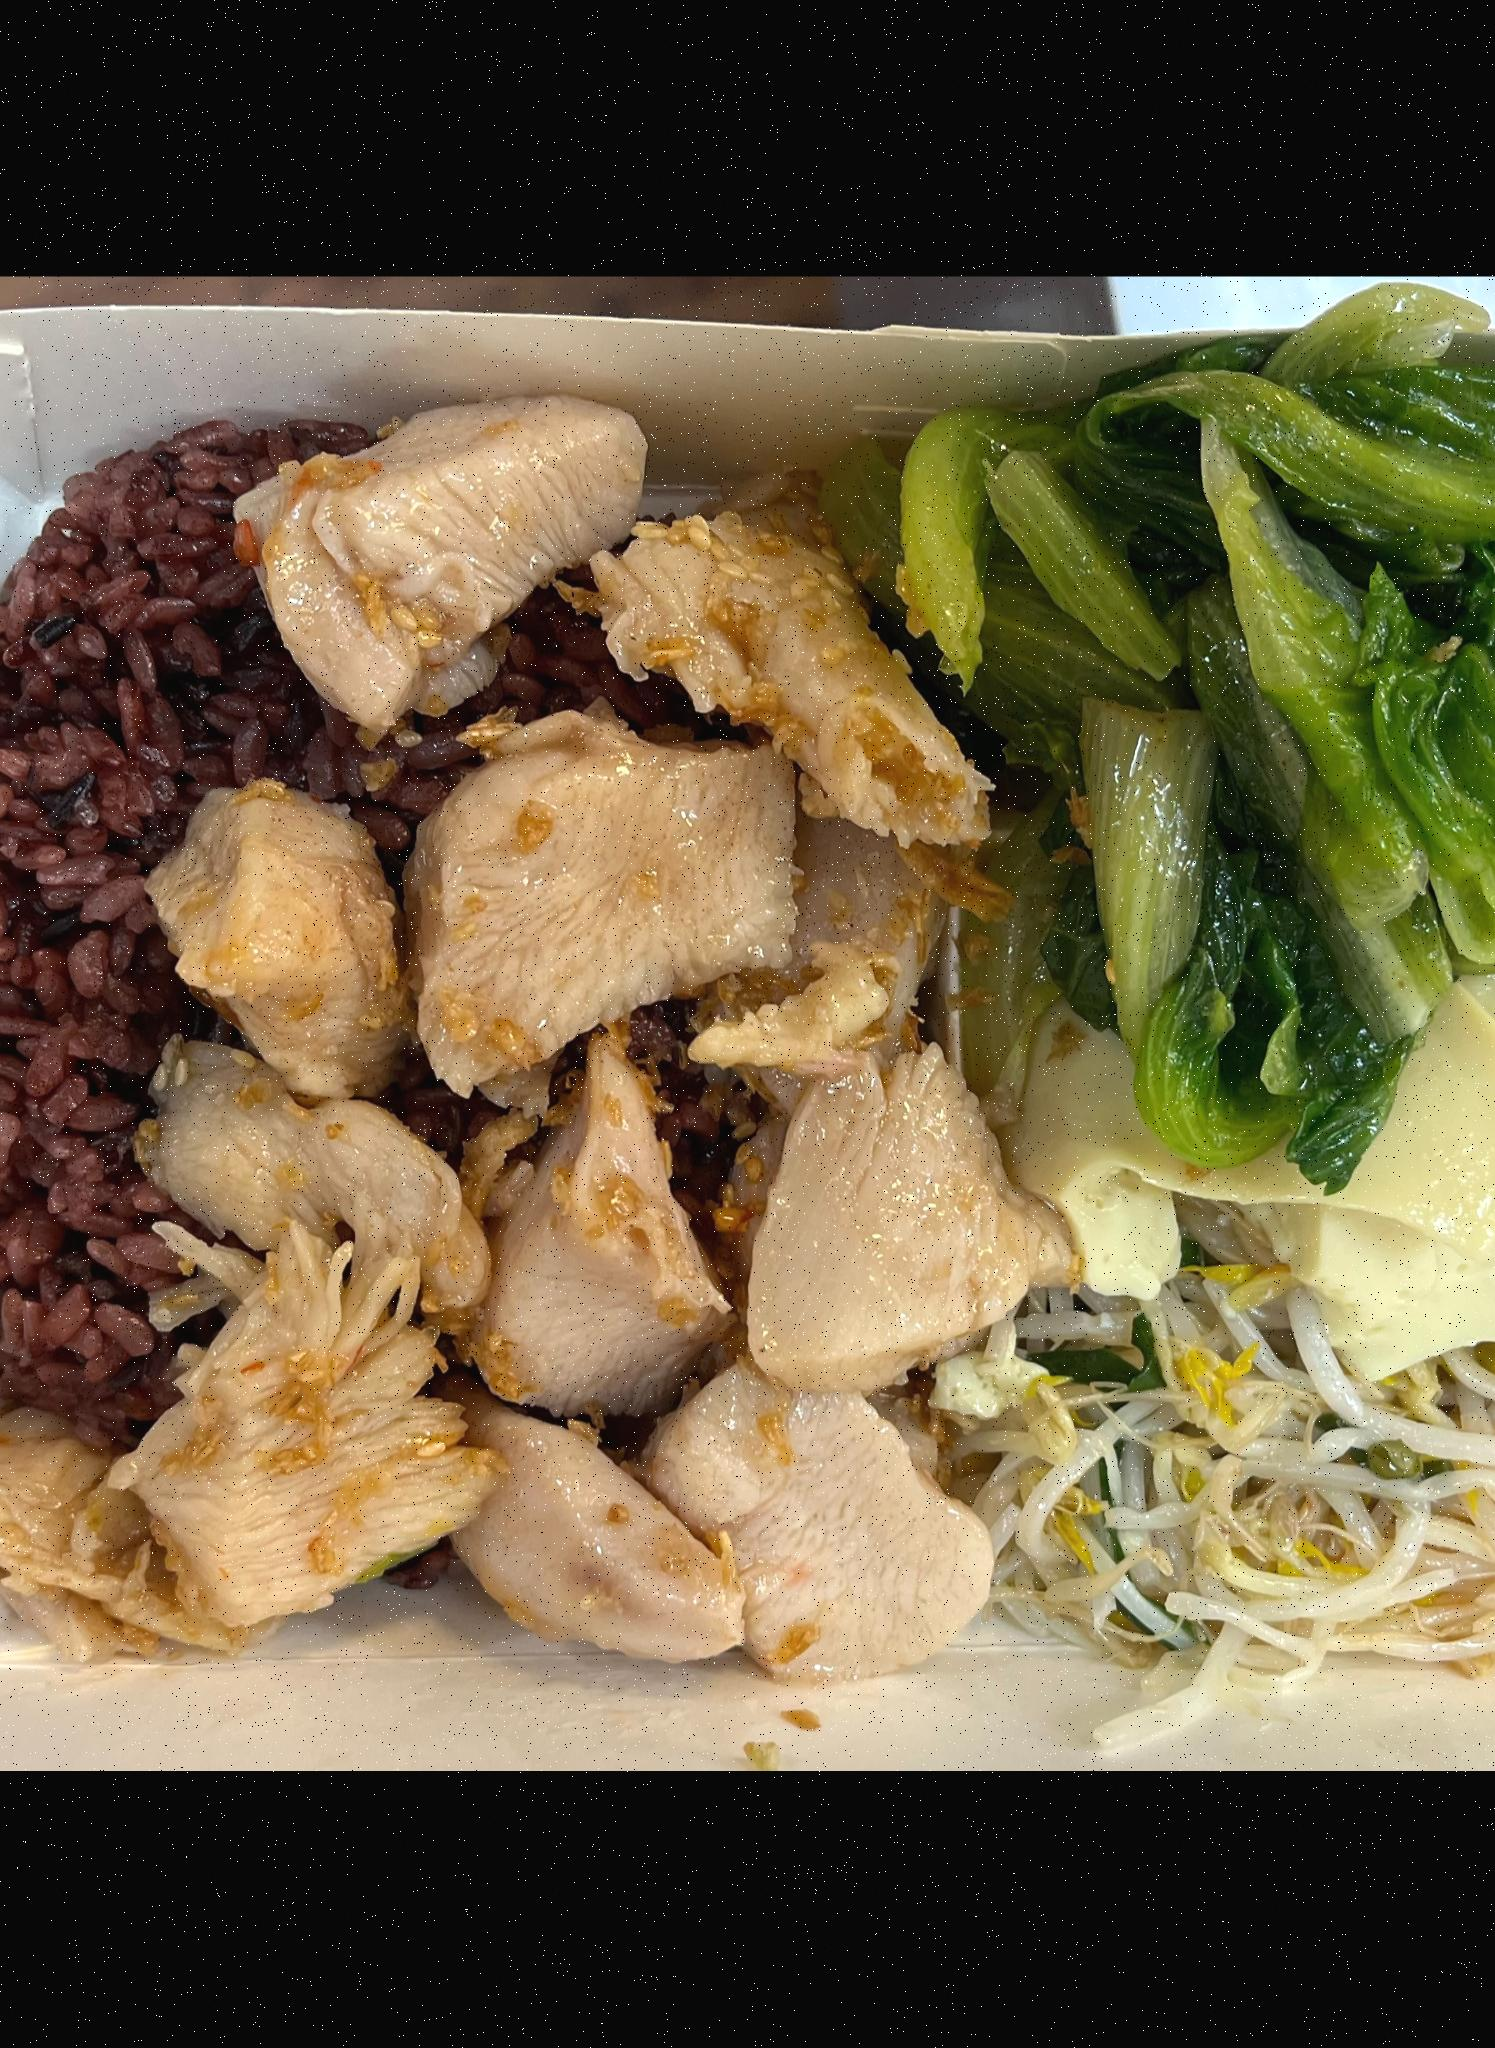box: (0, 281, 1495, 1730)
purple rice: (0, 407, 832, 1582)
scallion chicken: (138, 428, 977, 1636)
side dish: (918, 343, 1495, 1115), (988, 1269, 1495, 1700), (1004, 983, 1495, 1358)
